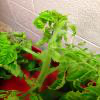Tomato leaf yellow virus: (48, 65, 68, 92), (0, 43, 20, 66), (67, 67, 93, 83), (32, 18, 47, 34), (40, 10, 57, 24), (50, 49, 66, 63)
